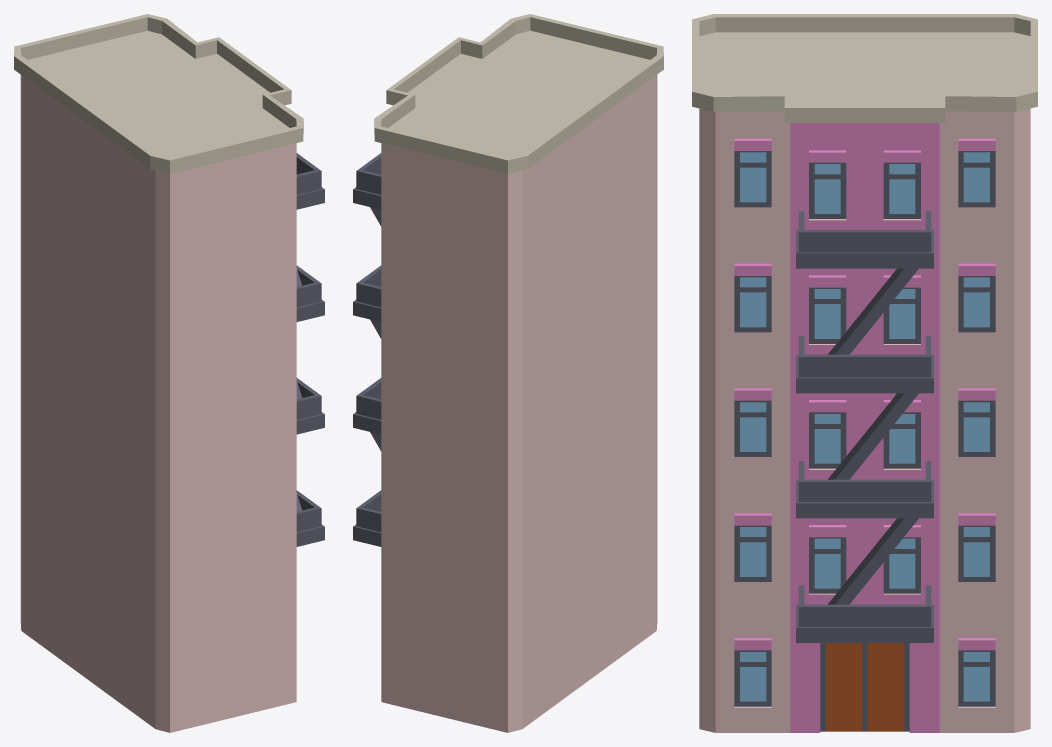
The picture shows the model from 3 angles, left to right: view 1: azimuth 30°, elevation 25°; view 2: azimuth 150°, elevation 25°; view 3: azimuth 270°, elevation 25°; orthographic projection. The views are drawn at different scales.
Parts seen in each view (by area): view 1: Predio 7.003; view 2: Predio 7.003; view 3: Predio 7.003.
Boxes of the visible parts, box(x1,y1,x2,y2) form: Predio 7.003: box(14, 14, 324, 732); Predio 7.003: box(353, 14, 663, 732); Predio 7.003: box(692, 14, 1037, 732).
Bounding box in the file's own units: 4912 × 12764 × 6258.
